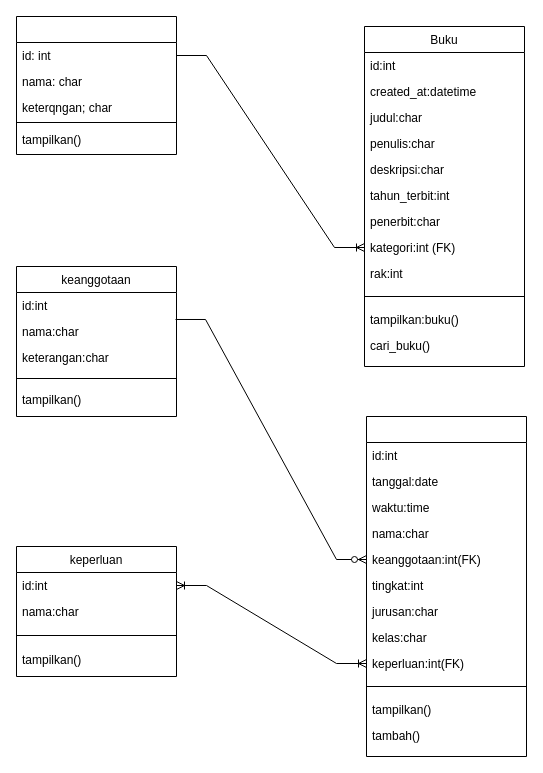
Some shapes in this 543 by 773 pixel diagram are drawn without their labels. Each missing label, with the box of its shape:
kategori buku: (16, 16, 176, 154)
penggunjung: (366, 416, 526, 756)
